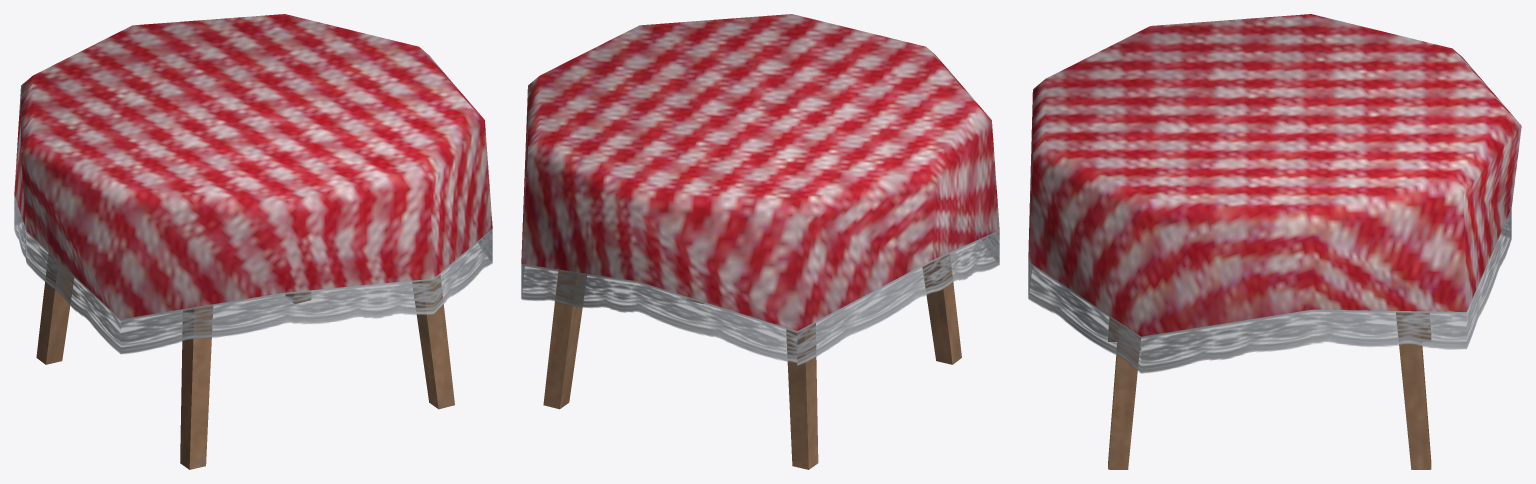
File: Table_01-col.glb
3 renders of one model, left to right at view 1: azimuth 30°, elevation 25°; view 2: azimuth 150°, elevation 25°; view 3: azimuth 270°, elevation 25°, orthographic. The views are drawn at different scales.
Visible parts, largest first — view 1: Table_01-col; view 2: Table_01-col; view 3: Table_01-col.
Boxes of the visible parts, box(x1,y1,x2,y2) form: Table_01-col: box(14, 14, 492, 469); Table_01-col: box(521, 14, 999, 469); Table_01-col: box(1028, 14, 1521, 469).
Bounding box in the file's own units: 1.42 × 0.9079 × 1.41.
Materials: 1 (1 with a texture image).
